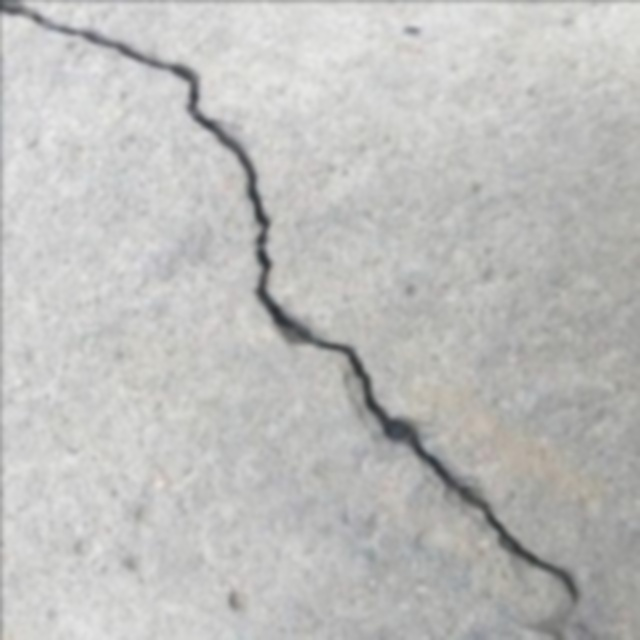SurfaceCrack: (8, 2, 590, 632)
